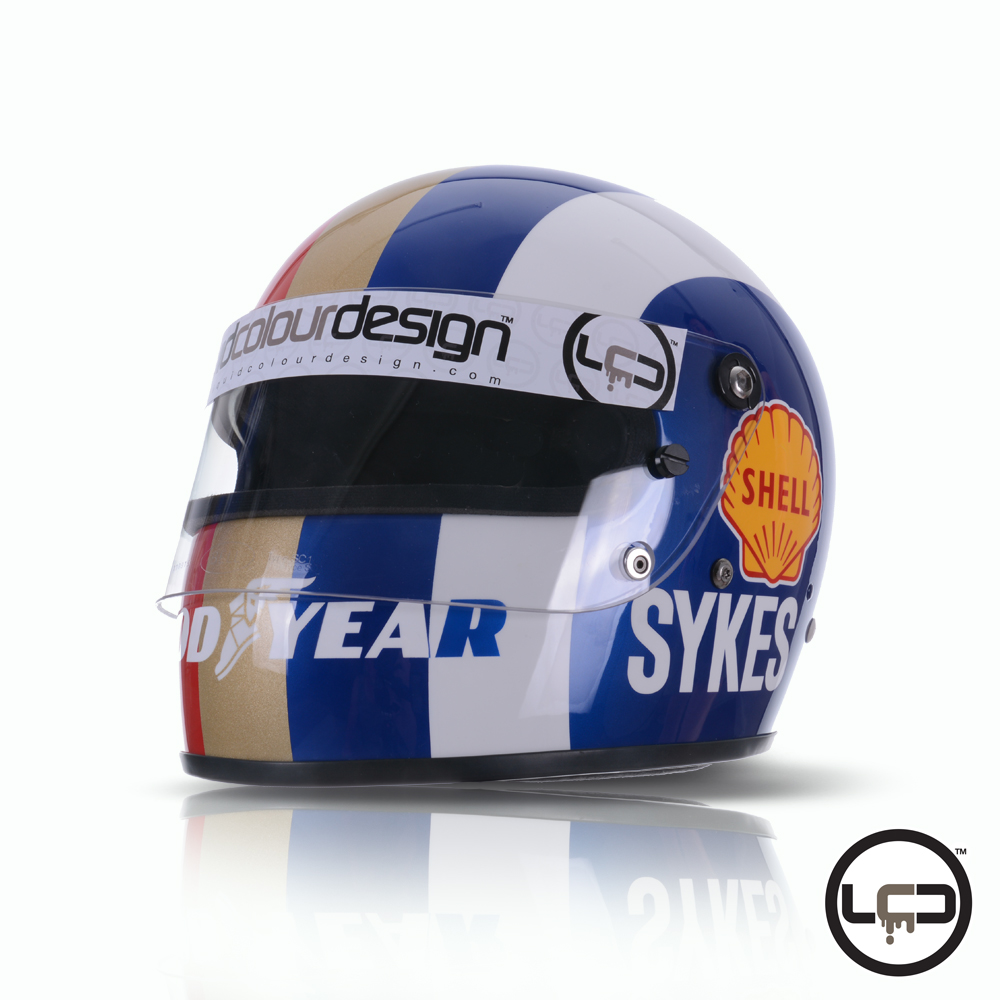with_helmet: (166, 167, 833, 774)
